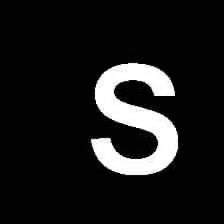LTR_S: (85, 53, 183, 184)
